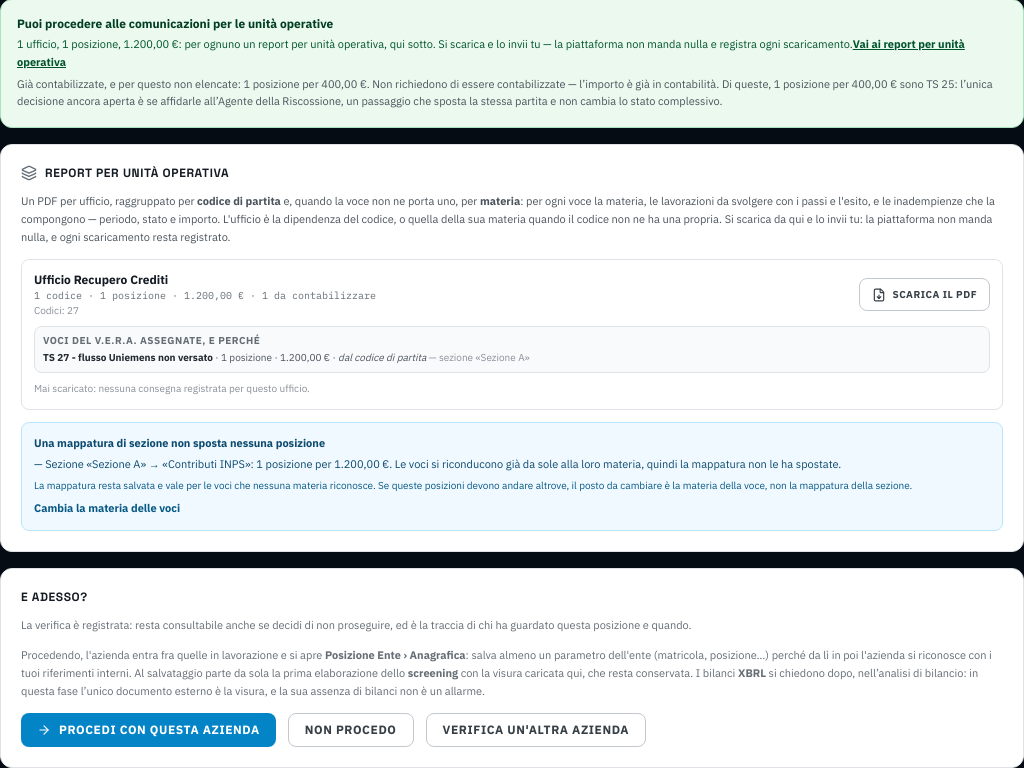
Scenario: Verifica salute azienda — riapertura da ?azienda= › «Non procedo» chiede il motivo e archivia la verifica
(page scrolled)
Click the button "Non procedo".
click(351, 730)  # box [288,712,414,746]
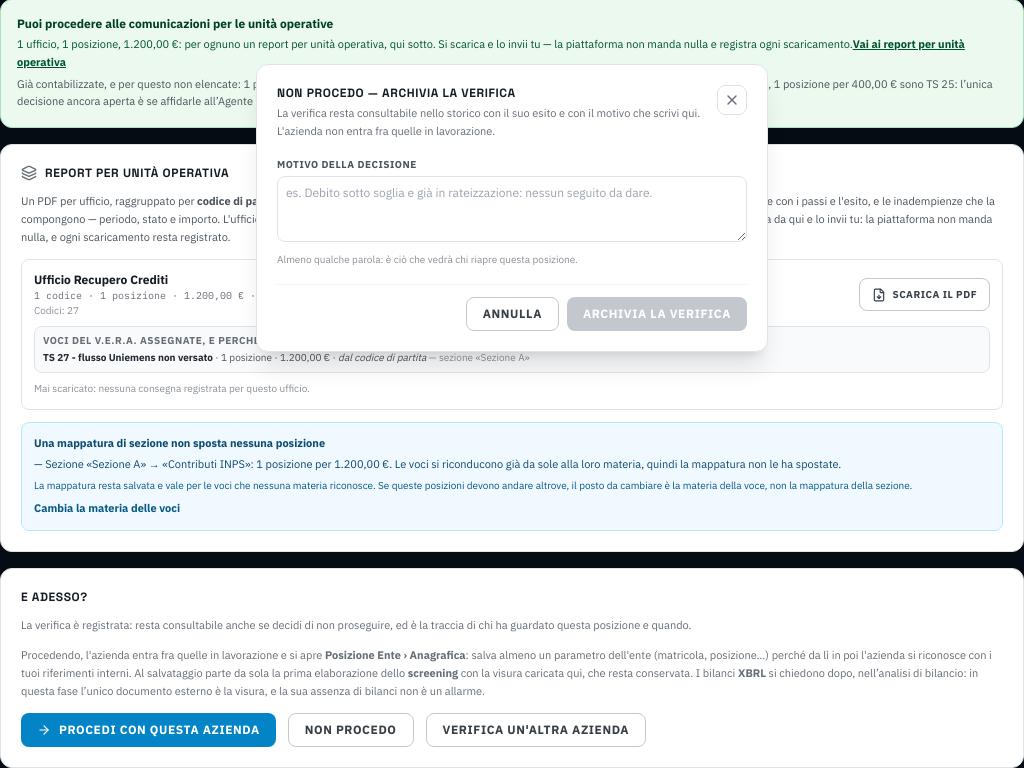
Result: the heading "Non procedo — archivia la verifica" is shown at [277,85,516,101]
Result: the button "Archivia la verifica" is disabled at [567,297,747,331]
Replace the text in the text box labelled "Motivo della decisione" with "Debito sotto soglia, nessun seguito." at (512, 209), box [277,176,747,242]
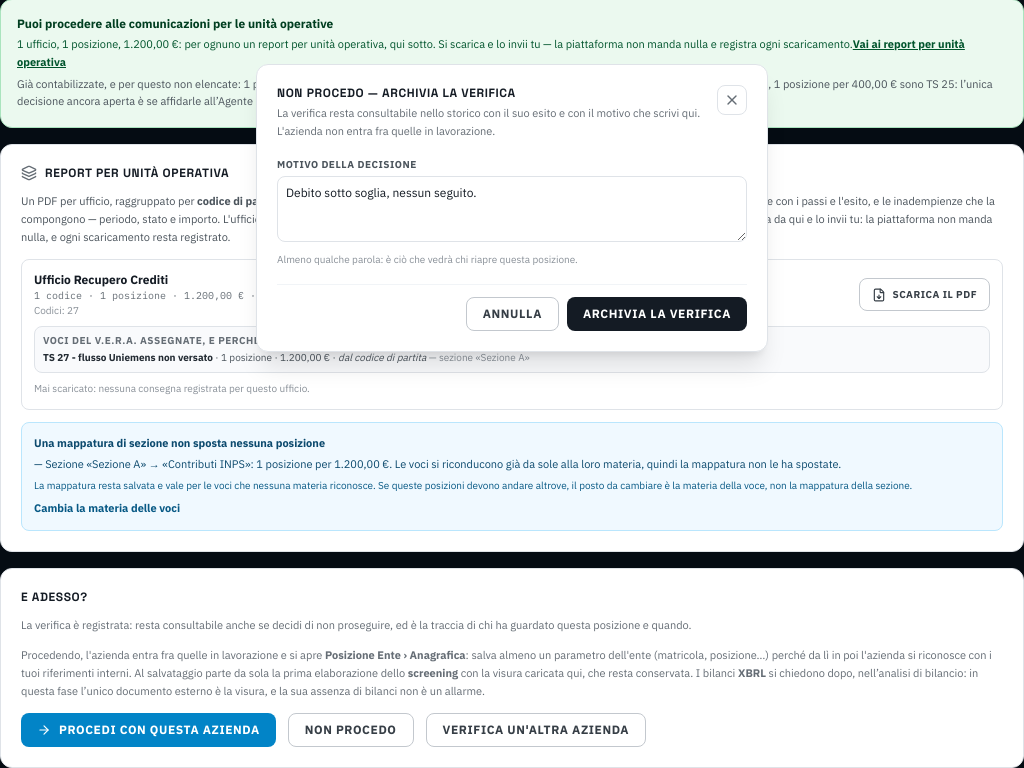
Result: the button "Archivia la verifica" is enabled
Click the button "Archivia la verifica".
click(657, 314)  # box [567,297,747,331]
(page scrolled)
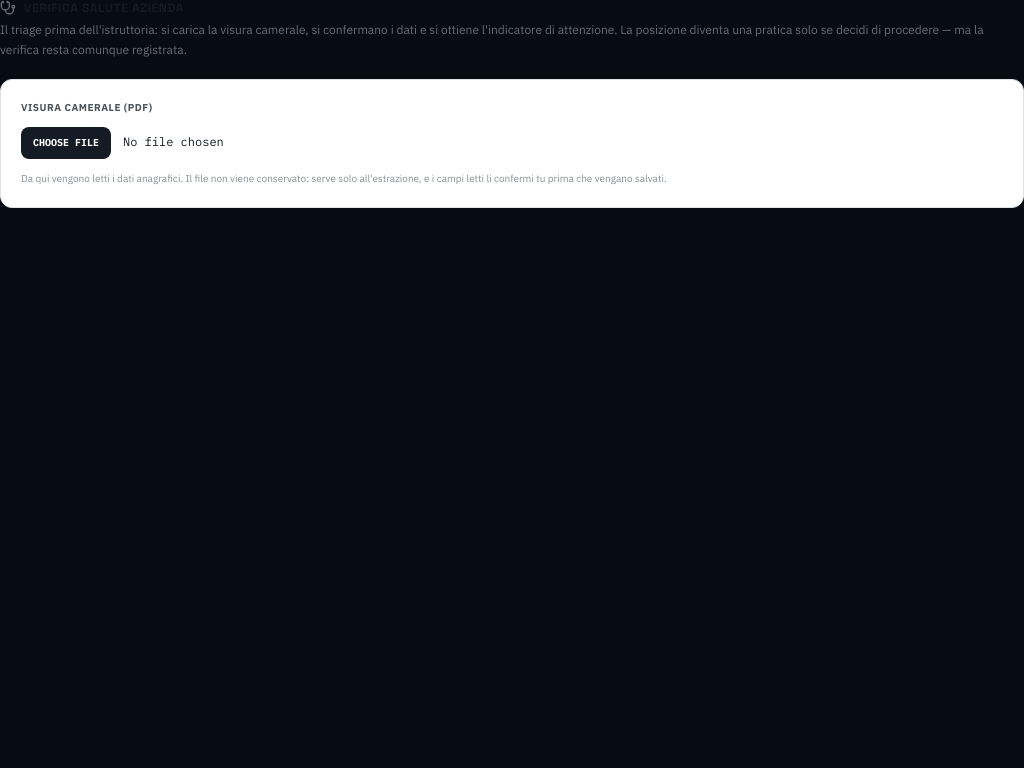
Result: the text "Visura camerale (PDF)" is shown at [21,101,153,114]
